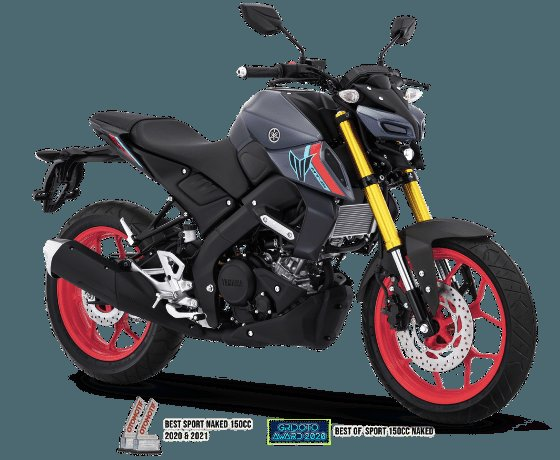motor: (51, 90, 528, 408)
